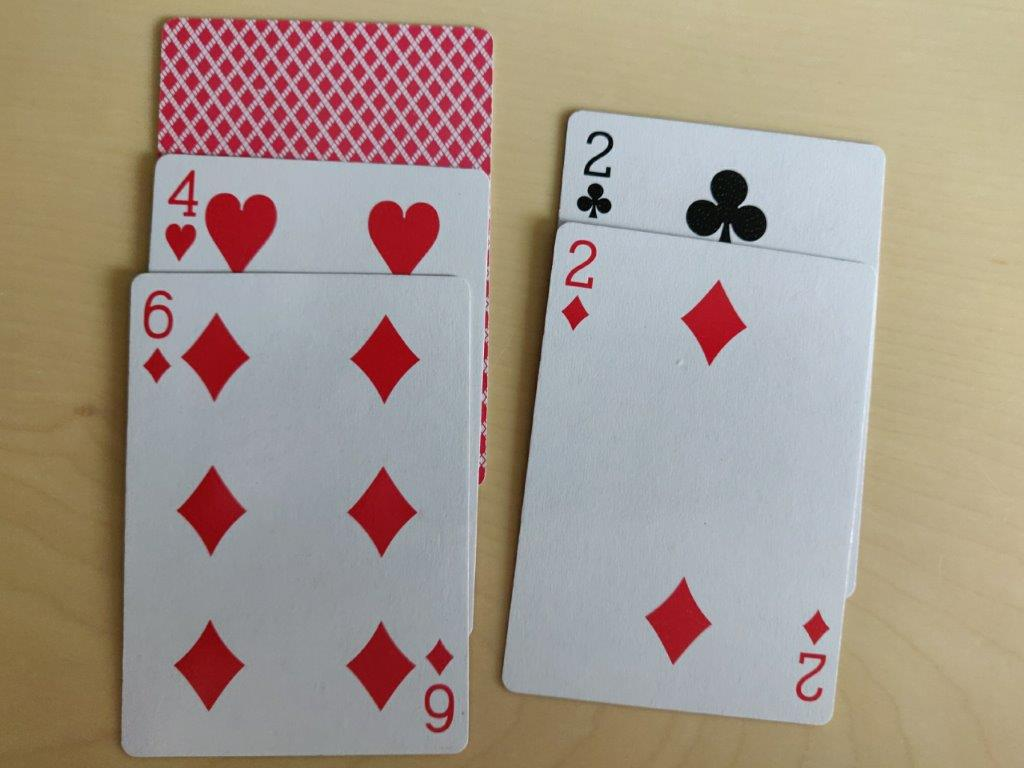2C: (569, 120, 624, 222)
2D: (552, 231, 596, 336)
4H: (163, 164, 201, 267)
6D: (135, 284, 176, 393)
BACK: (147, 17, 497, 172)
